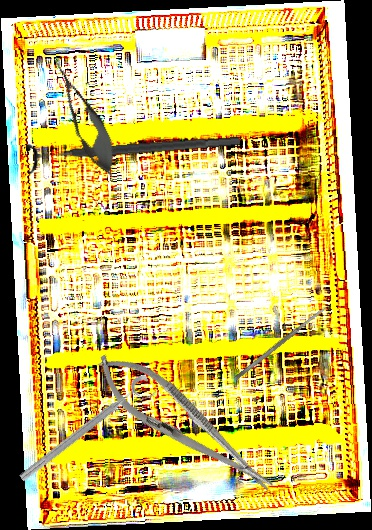Fixation Ring: (15, 372, 160, 493), (25, 124, 242, 177)
Micro Scissor: (41, 51, 127, 183)
Needle Holder: (82, 338, 287, 510)
Spatula Surgical: (233, 304, 329, 382)
